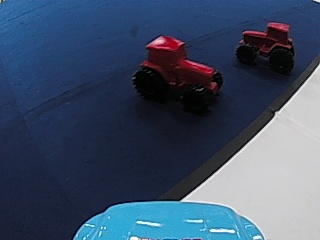tractor: (129, 32, 226, 109), (236, 19, 297, 73)
